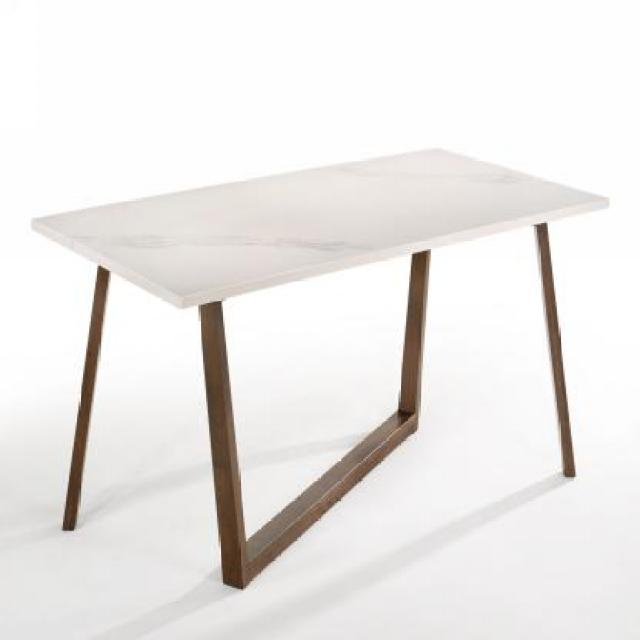table: (30, 145, 612, 592)
